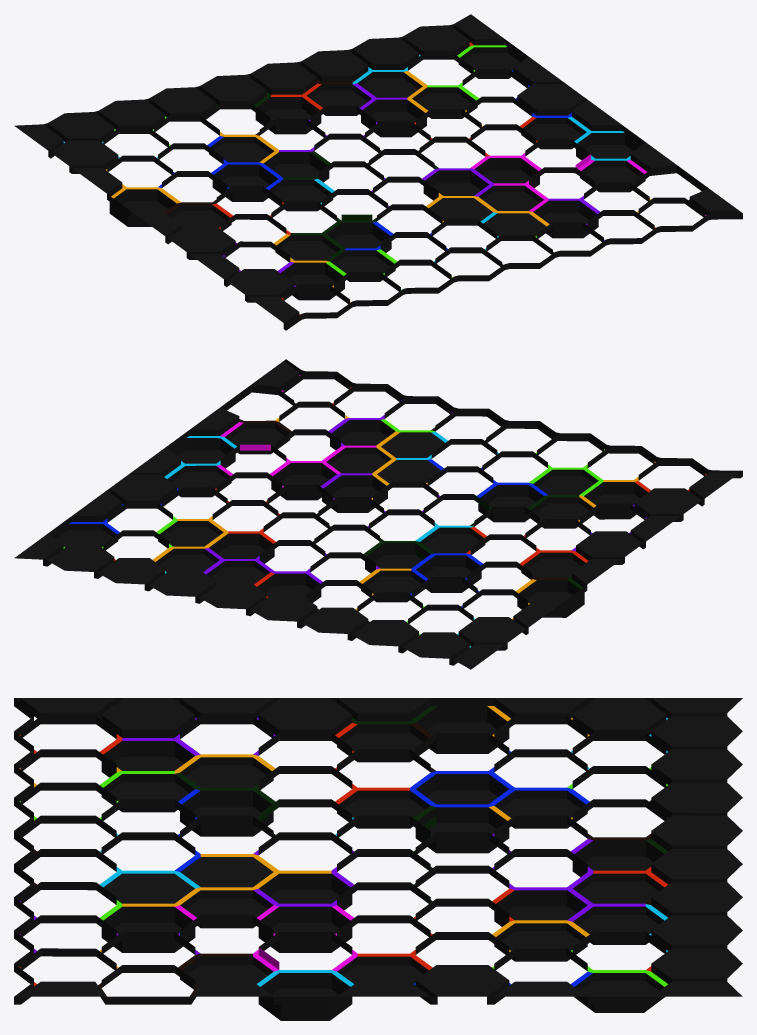
Rendered from P_Wall_Mega_Multimat.FBX.
The picture shows the model from 3 angles, top to bottom: view 1: azimuth 30°, elevation 25°; view 2: azimuth 150°, elevation 25°; view 3: azimuth 270°, elevation 25°; orthographic projection. The views are drawn at different scales.
Parts seen in each view (by area): view 1: Plane006; view 2: Plane006; view 3: Plane006.
Part boxes in pixels (left/top/right/bottom): Plane006: left=14, top=14, right=742, bottom=330; Plane006: left=14, top=359, right=742, bottom=669; Plane006: left=14, top=698, right=742, bottom=1020.
Size of the model in its own units: 4 by 0.15 by 4.13.
